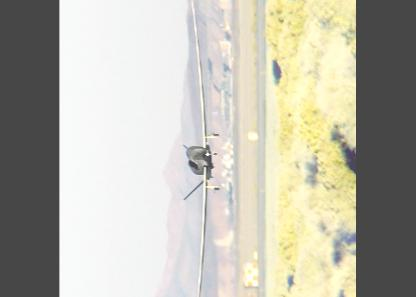P3: (182, 0, 219, 296)
